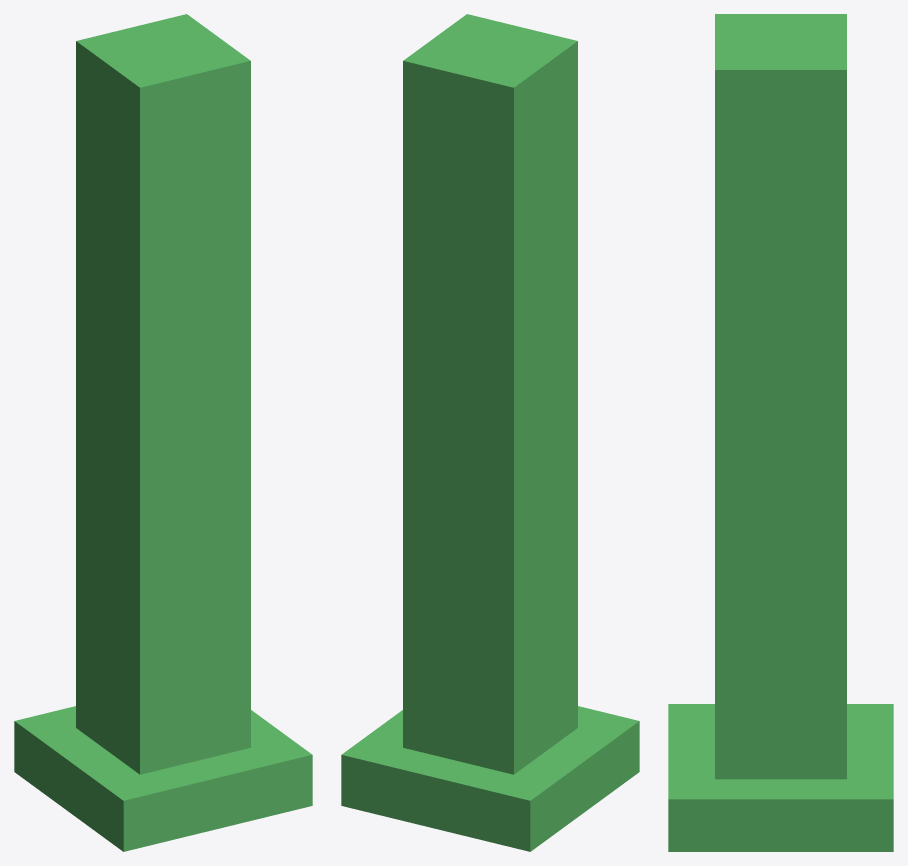
Rendered from falling_column_collision.glb.
The picture shows the model from 3 angles, left to right: view 1: azimuth 30°, elevation 25°; view 2: azimuth 150°, elevation 25°; view 3: azimuth 270°, elevation 25°; orthographic projection. The views are drawn at different scales.
Visible parts, largest first — view 1: falling_column-col-shaft, falling_column-col-base; view 2: falling_column-col-shaft, falling_column-col-base; view 3: falling_column-col-shaft, falling_column-col-base.
Boxes of the visible parts, left/top/right/bottom form: falling_column-col-shaft: left=76, top=14, right=250, bottom=774; falling_column-col-base: left=14, top=706, right=312, bottom=851; falling_column-col-shaft: left=403, top=14, right=577, bottom=774; falling_column-col-base: left=341, top=706, right=639, bottom=851; falling_column-col-shaft: left=715, top=14, right=846, bottom=779; falling_column-col-base: left=668, top=704, right=893, bottom=851.
Size of the model in its own units: 1.16 by 4.33 by 1.16.
